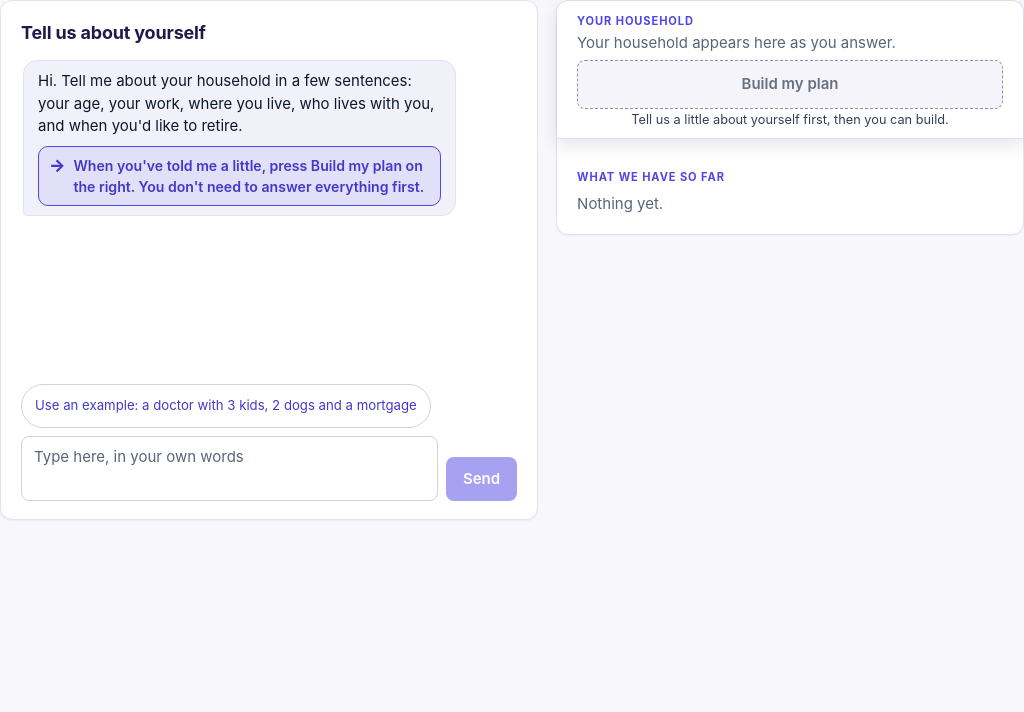
Scenario: quick answers › the opening example and each quick answer from /api/intake send their text
Click the button "Use an example: a doctor with 3 kids, 2 dogs and a mortgage" at point(226, 406), box [21, 384, 431, 428]
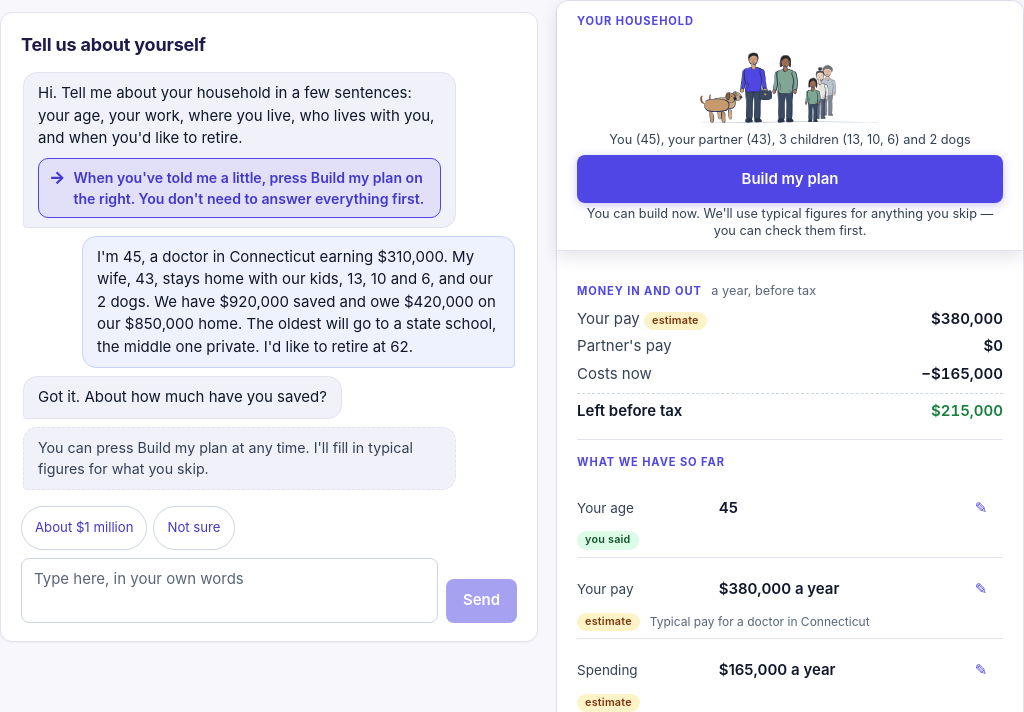
Click the button "About $1 million" at point(84, 528), box [21, 506, 148, 550]
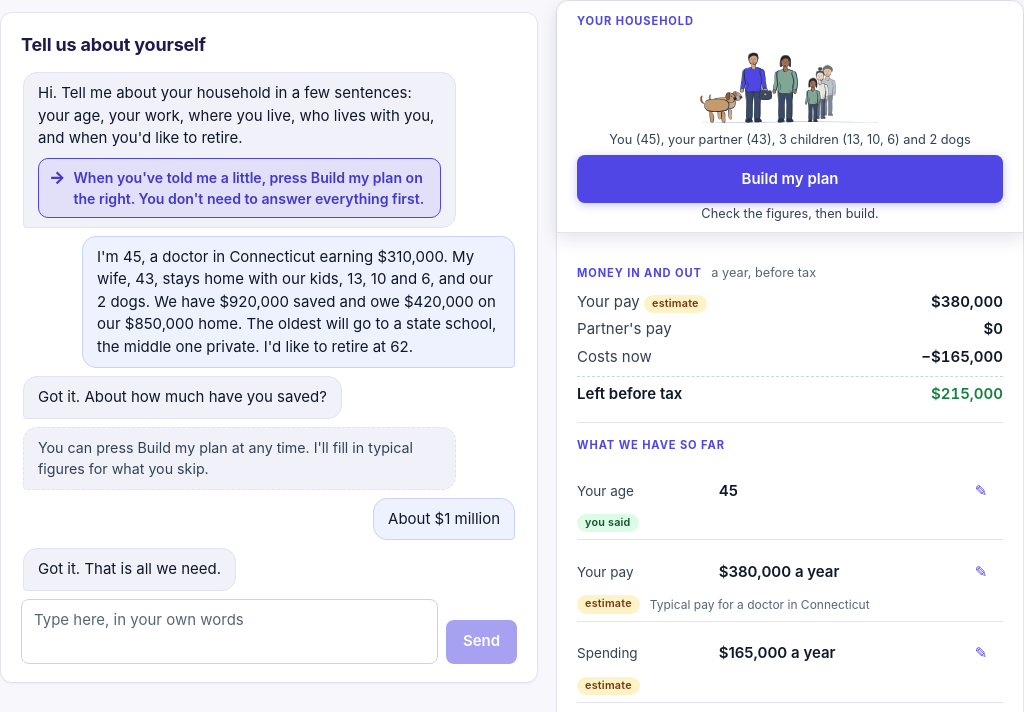
Expected: the element with class "bubble-you" showing "About $1 million" is shown, [373, 498, 515, 540]
Expected: the element with class "bubble-us" showing "Got it. That is all we need." is shown, [23, 548, 236, 590]
